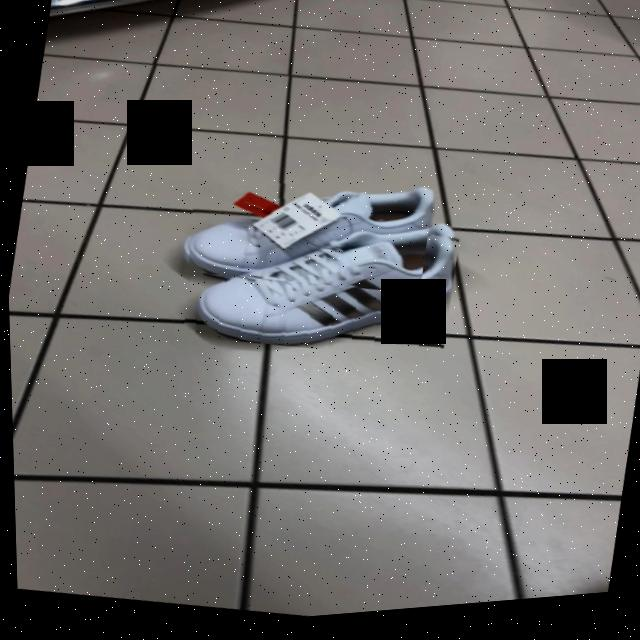shoe: (193, 230, 452, 352), (187, 196, 432, 280)
